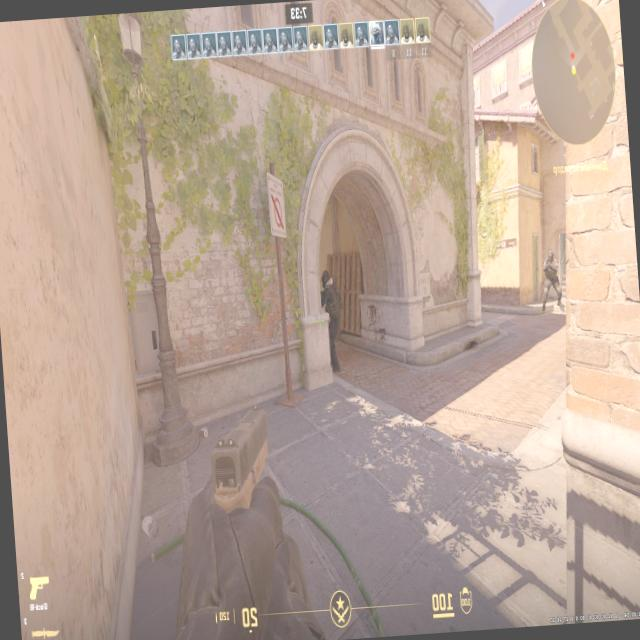CT: (322, 274, 340, 370), (540, 251, 560, 307)
CT_heat: (324, 274, 330, 290), (548, 252, 554, 264)
